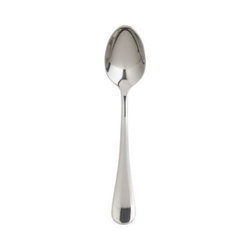metal: (102, 23, 147, 226)
